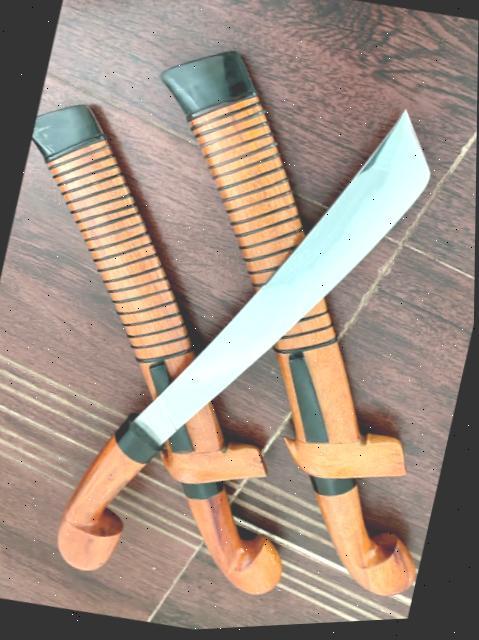long knife: (57, 27, 478, 619), (50, 57, 446, 625), (0, 82, 376, 611)
